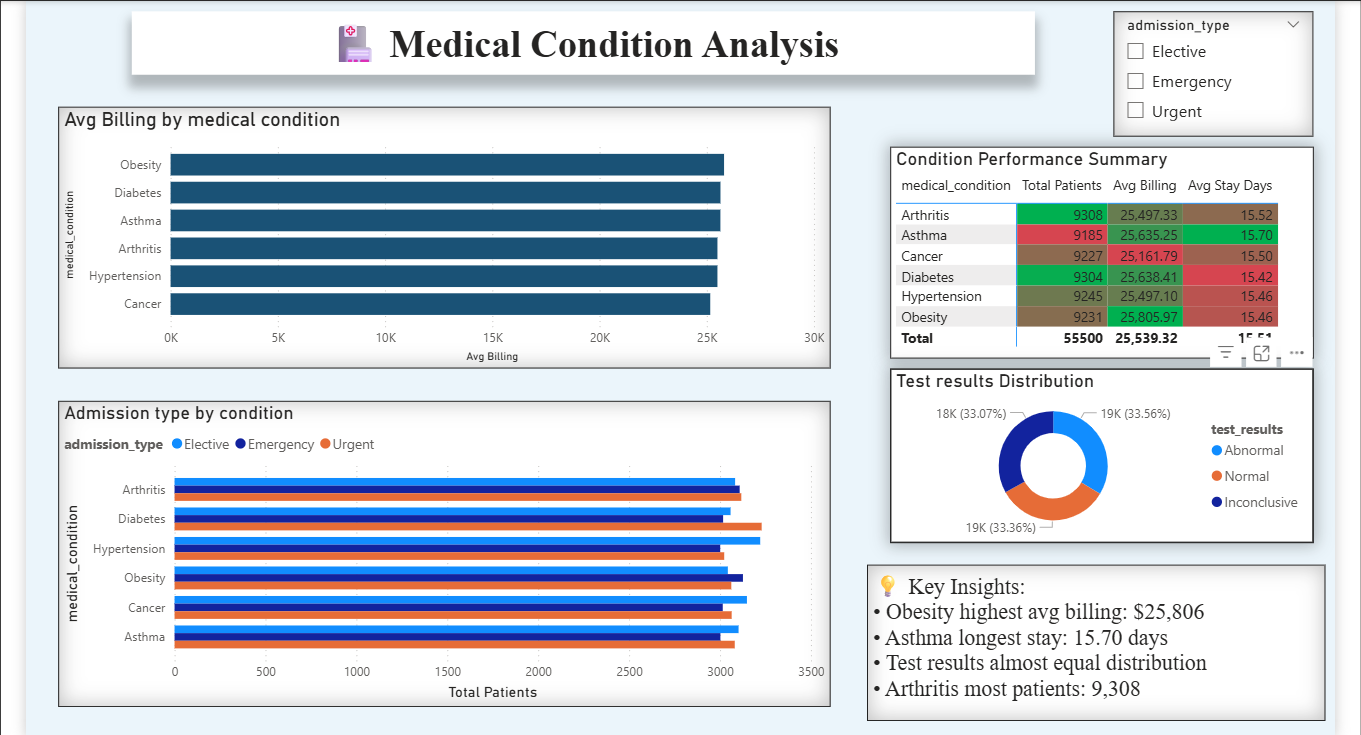

What the dashboard file says about the page in this screenshot:
{"tool":"powerbi","page":{"name":"Medical Condition Analysis","canvas":[1280,720],"ordinal":1},"visuals":[{"type":"clusteredBarChart","title":"Avg Billing by medical condition","fields":{"Category":["public patients.medical_condition"],"Y":["public patients.Avg Billing"]},"box":[31.5,103.4,755.4,256],"z":0},{"type":"pivotTable","title":"Condition Performance Summary","fields":{"Rows":["public patients.medical_condition"],"Values":["public patients.Total Patients","public patients.Avg Billing","public patients.Avg Stay Days"]},"box":[844.9,142.5,413.6,206.8],"z":1},{"type":"clusteredBarChart","title":"Admission type by condition","fields":{"Category":["public patients.medical_condition"],"Y":["public patients.Total Patients"],"Series":["public patients.admission_type"]},"box":[31.5,390.9,755.4,298.9],"z":2},{"type":"donutChart","title":"Test results Distribution","fields":{"Category":["public patients.test_results"],"Y":["public patients.Total Patients"]},"box":[844.9,359.4,413.6,170.3],"z":3},{"type":"slicer","fields":{"Values":["public patients.admission_type"]},"box":[1062.9,10.2,195.7,122.8],"z":4},{"type":"textbox","box":[822.2,551.1,447.7,152.6],"z":5},{"type":"textbox","box":[103.4,10.1,882.8,61.8],"z":6}]}

Visuals, with their boxes on the page's 1280x720 design canvas (x1, y1, x2, y2). These are canvas units, not pixel positions in the 1361x735 screenshot, which may show the page scaled, cropped or inside an application window:
"Avg Billing by medical condition" clusteredBarChart: (32, 103, 787, 359)
"Condition Performance Summary" pivotTable: (845, 142, 1258, 349)
"Admission type by condition" clusteredBarChart: (32, 391, 787, 690)
"Test results Distribution" donutChart: (845, 359, 1258, 530)
slicer - public patients.admission_type: (1063, 10, 1259, 133)
textbox: (822, 551, 1270, 704)
textbox: (103, 10, 986, 72)
